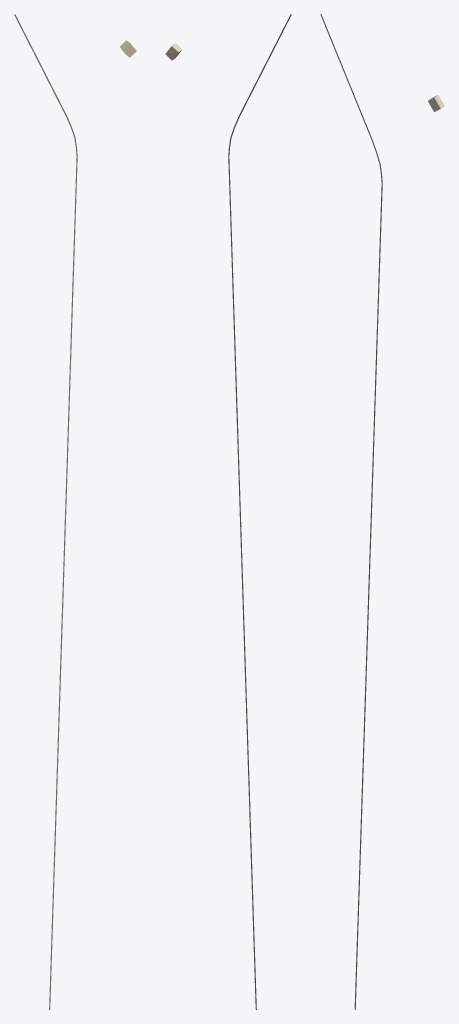
Rendered from historic-palestine-02_19_3439_3132.glb.
3 views of the same model, side by side, from view 1: azimuth 30°, elevation 25°; view 2: azimuth 150°, elevation 25°; view 3: azimuth 330°, elevation 25° (orthographic).
Visible parts, largest first — view 1: Road; view 2: Road; view 3: Road.
Boxes of the visible parts, left/top/right/bottom form: Road: left=14, top=14, right=77, bottom=1009; Road: left=228, top=14, right=291, bottom=1009; Road: left=320, top=14, right=382, bottom=1009.
Size of the model in its own units: 136 by 1067 by 8.7.
